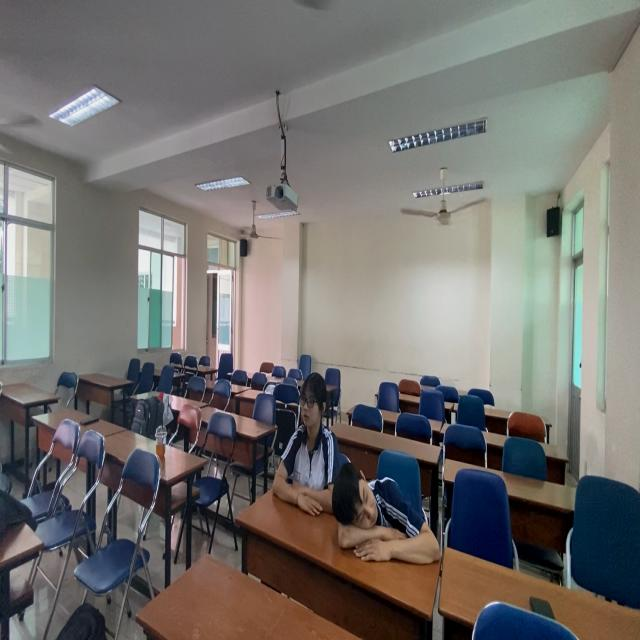sleep: (329, 462, 443, 577)
